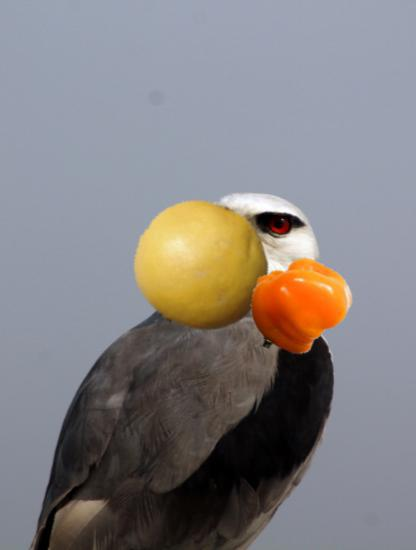Grapefruit: (133, 198, 270, 335)
Pepper: (248, 256, 350, 358)
